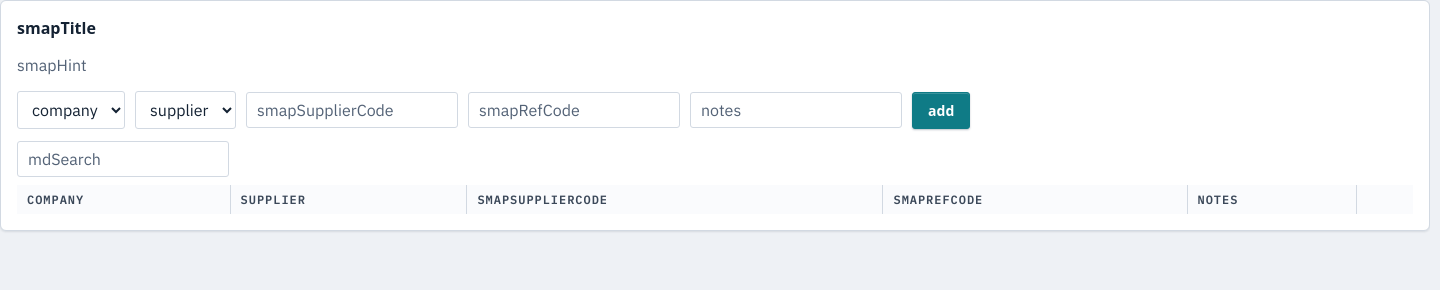
Test case: wyścigi odpowiedzi — starsza odpowiedź nie nadpisuje nowszej › SupplierMapsTab: kolejne wyszukiwanie
Type "x" into the field with placeholder "mdSearch" at (123, 159), box [17, 141, 229, 177]
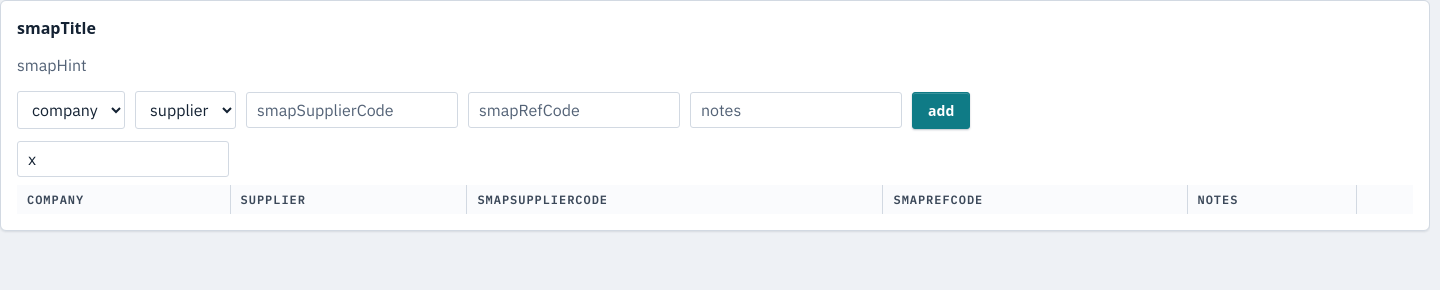
Press Enter in the field with placeholder "mdSearch", box [17, 141, 229, 177]
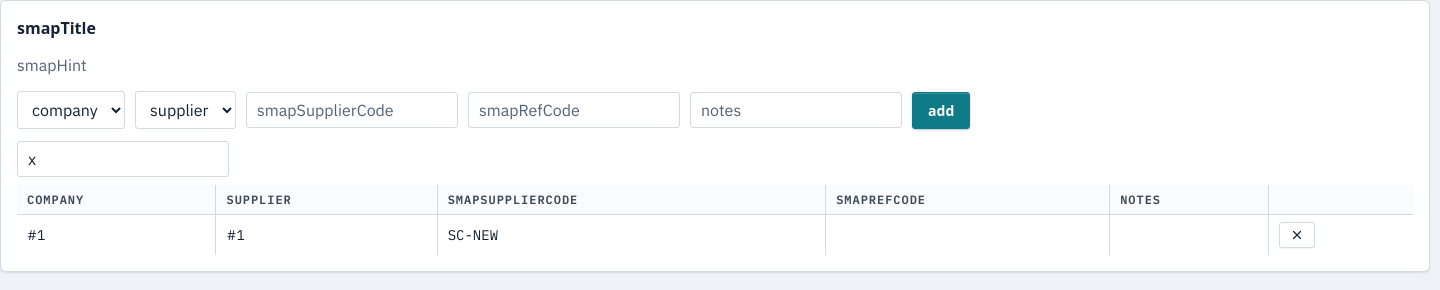
Now the text "SC-NEW" is shown, box [437, 214, 826, 255]
